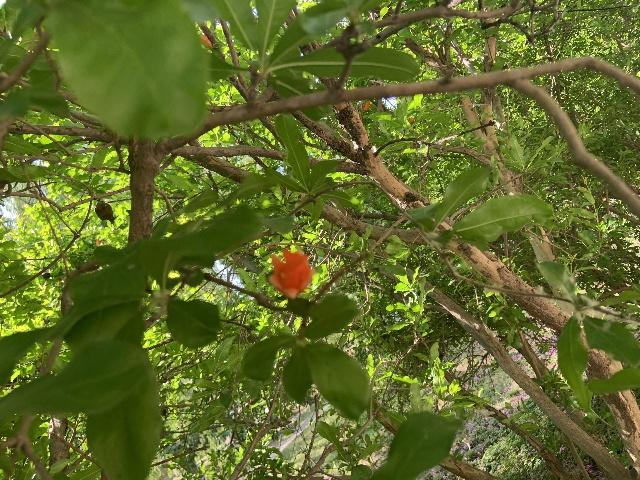bud: (199, 33, 211, 49), (408, 117, 414, 123)
flower: (269, 248, 313, 297), (363, 102, 370, 110)
